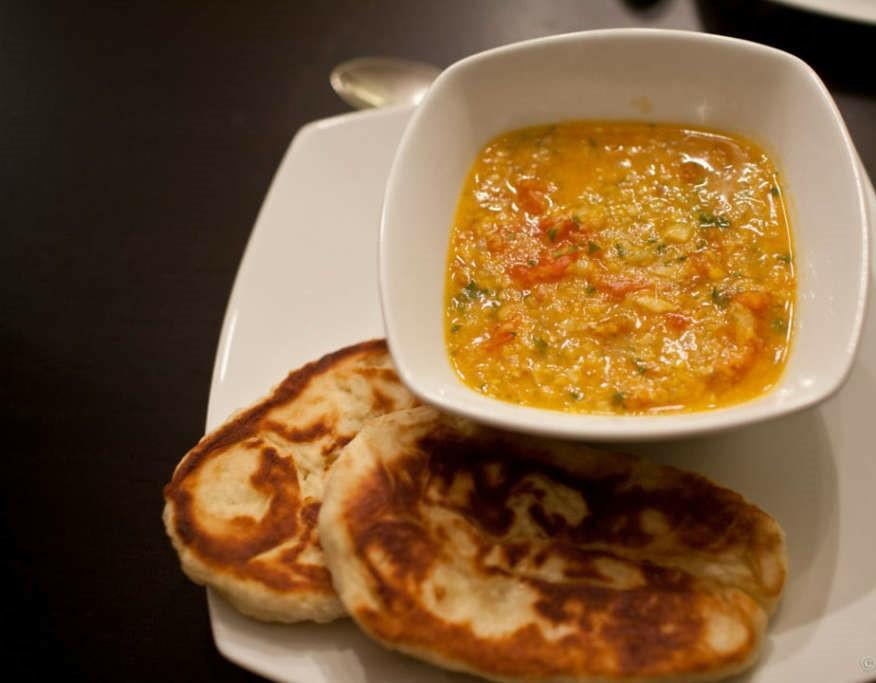Dal: (449, 120, 795, 414)
